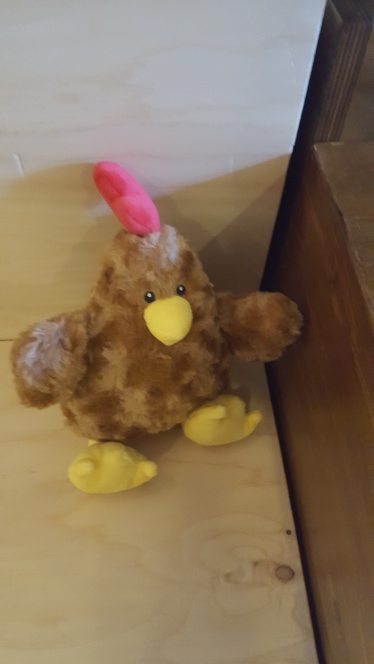chicken_front: (9, 162, 303, 491)
